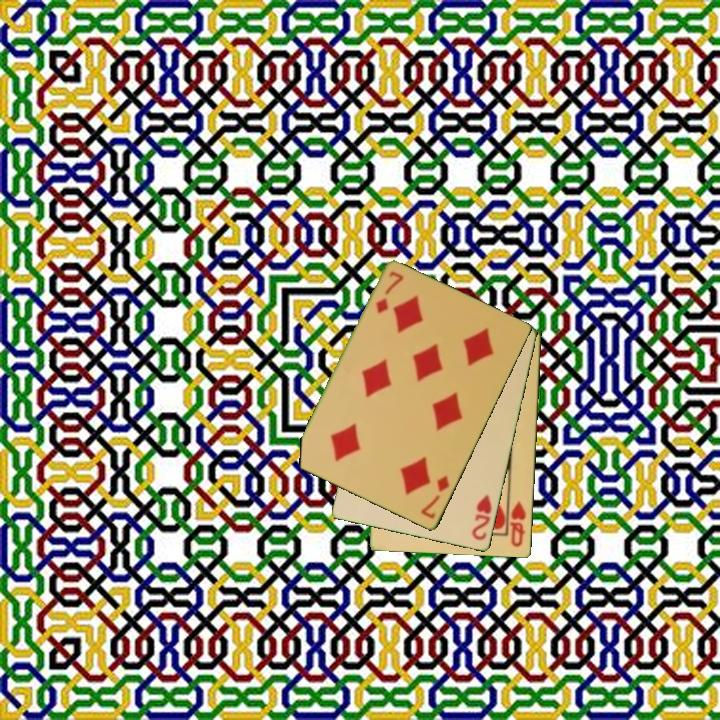2h: (469, 491, 495, 544)
7d: (417, 472, 453, 522), (372, 268, 406, 317)
Qh: (507, 498, 529, 550)
